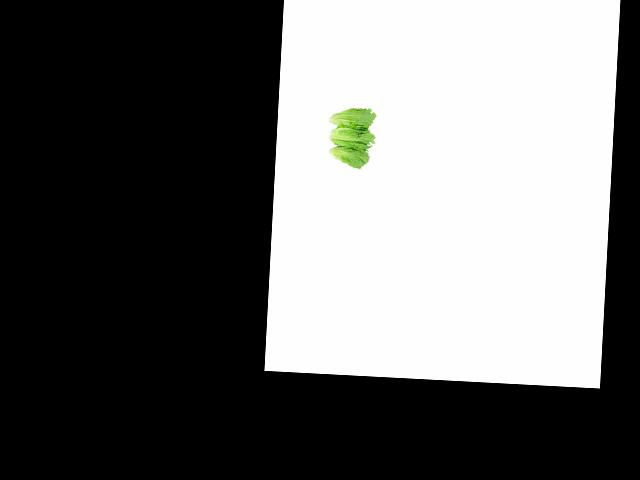lettuce: (318, 142, 371, 169)
